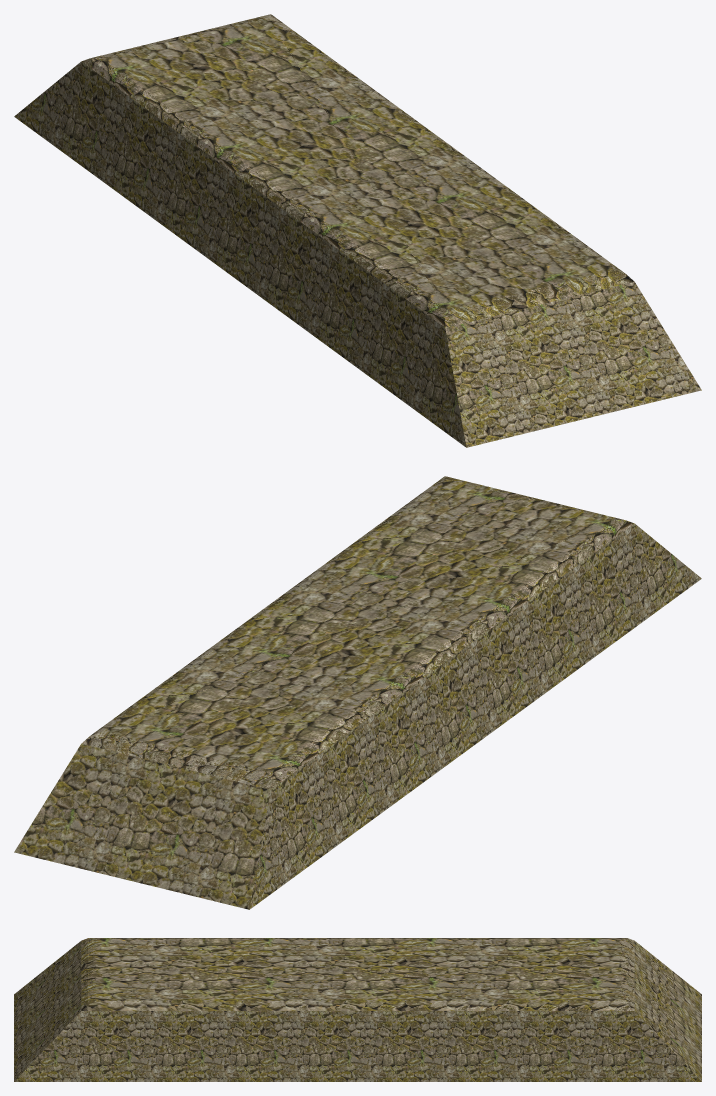
File: schoolbasestone.fbx
The picture shows the model from 3 angles, top to bottom: view 1: azimuth 30°, elevation 25°; view 2: azimuth 150°, elevation 25°; view 3: azimuth 270°, elevation 25°; orthographic projection. The views are drawn at different scales.
Parts seen in each view (by area): view 1: school base; view 2: school base; view 3: school base.
Boxes of the visible parts, left/top/right/bottom form: school base: left=14, top=14, right=701, bottom=447; school base: left=14, top=476, right=701, bottom=909; school base: left=14, top=938, right=701, bottom=1081.
Bounding box in the file's own units: 851 × 309 × 2832.
